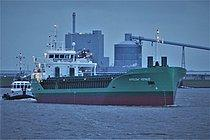Ship: (27, 45, 190, 110)
